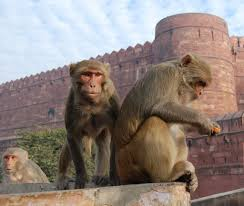monkey: (127, 37, 219, 192), (55, 45, 117, 188), (0, 140, 53, 189)
